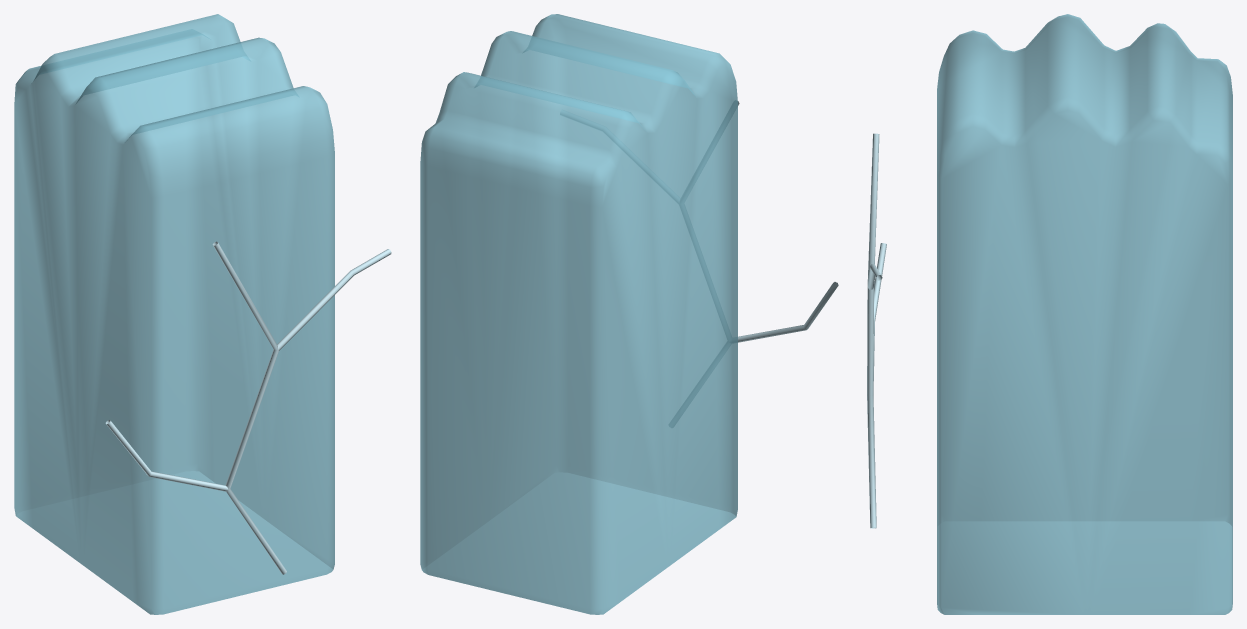
File: IceWall.fbx
3 views of the same model, side by side, from view 1: azimuth 30°, elevation 25°; view 2: azimuth 150°, elevation 25°; view 3: azimuth 270°, elevation 25° (orthographic). The views are drawn at different scales.
Parts seen in each view (by area): view 1: Ice, Crack_0, Crack_1, Crack_2; view 2: Ice, Crack_2; view 3: Ice, Crack_0, Crack_2.
Part boxes in pixels (left/top/right/bottom): Ice: left=14, top=14, right=334, bottom=614; Crack_0: left=212, top=241, right=286, bottom=574; Crack_1: left=277, top=249, right=391, bottom=350; Crack_2: left=105, top=420, right=228, bottom=491; Ice: left=420, top=14, right=737, bottom=614; Crack_2: left=738, top=282, right=838, bottom=342; Ice: left=937, top=14, right=1232, bottom=614; Crack_0: left=867, top=133, right=879, bottom=528; Crack_2: left=873, top=243, right=886, bottom=380.
Size of the model in its own units: 0.6262 by 1.04 by 0.673.
